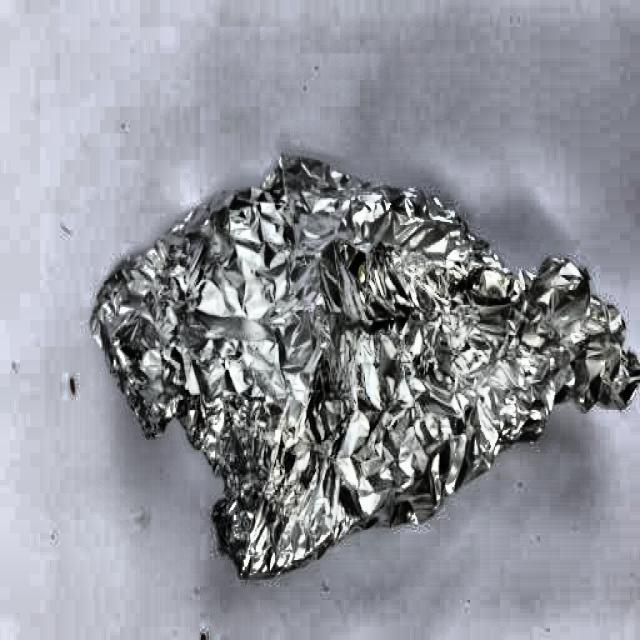metal: (89, 146, 640, 569)
